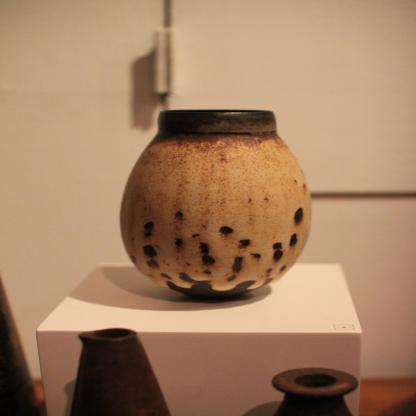vase: (119, 107, 312, 298), (66, 327, 171, 416), (268, 365, 357, 416)
